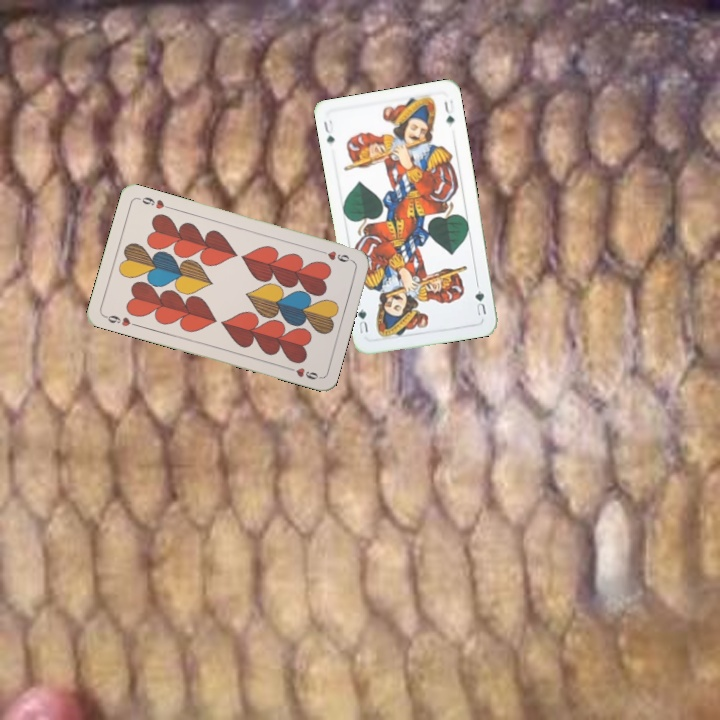GU: (471, 286, 489, 318), (319, 116, 337, 146)
H9: (315, 246, 355, 265), (100, 311, 140, 329)
